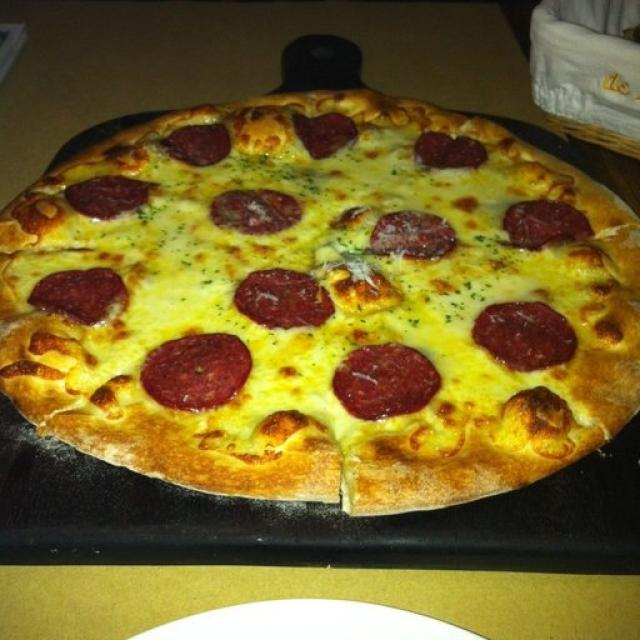Pepperoni: (140, 334, 252, 415), (330, 344, 442, 424), (469, 300, 578, 374), (231, 269, 335, 334), (26, 269, 130, 330), (365, 211, 459, 265), (208, 190, 306, 240), (501, 200, 595, 252), (162, 126, 235, 172), (65, 179, 152, 216), (414, 131, 489, 170), (295, 115, 358, 161)
Pizza: (0, 90, 639, 513)
